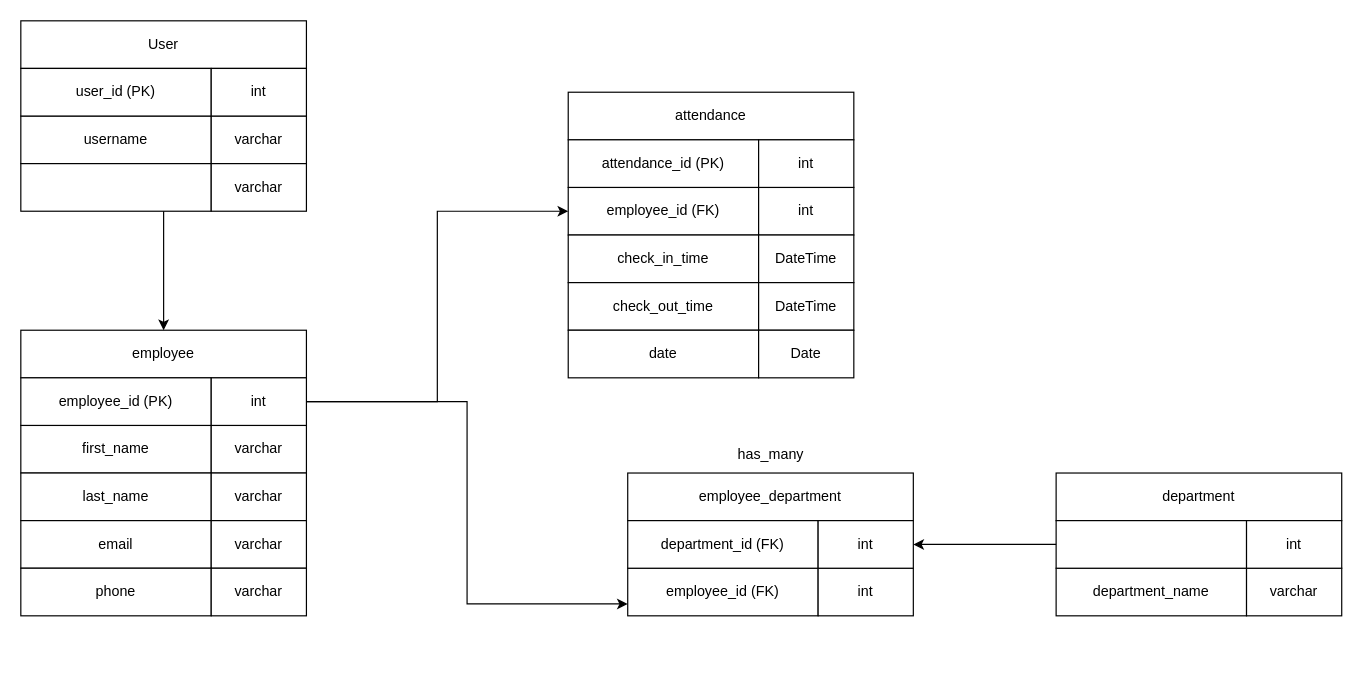
Some shapes in this 1363 by 684 pixel diagram are drawn without their labels. The shapes that lost their labels are listed below. From the top down, each one's centre as x and y in pixels, then its label:
(x=115, y=186): password
(x=1151, y=543): department_id (PK)
